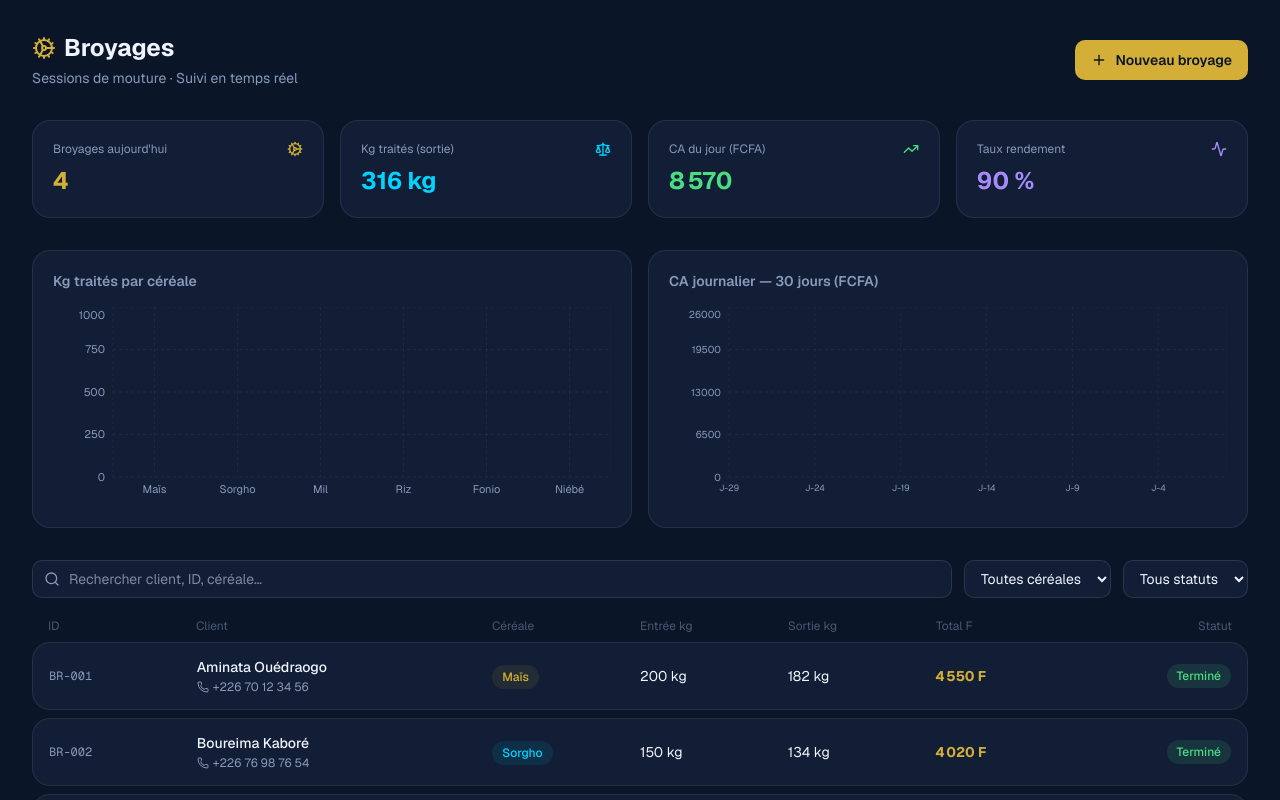
Test: BroyagesPage — filtres et recherche › 15. filtre par céréale "Fonio" → affiche BR-005 et BR-011 seulement
The width and height of the screenshot is (1280, 800).
Select "Fonio" in the 1st dropdown: (1038, 579) [964,560,1111,598]
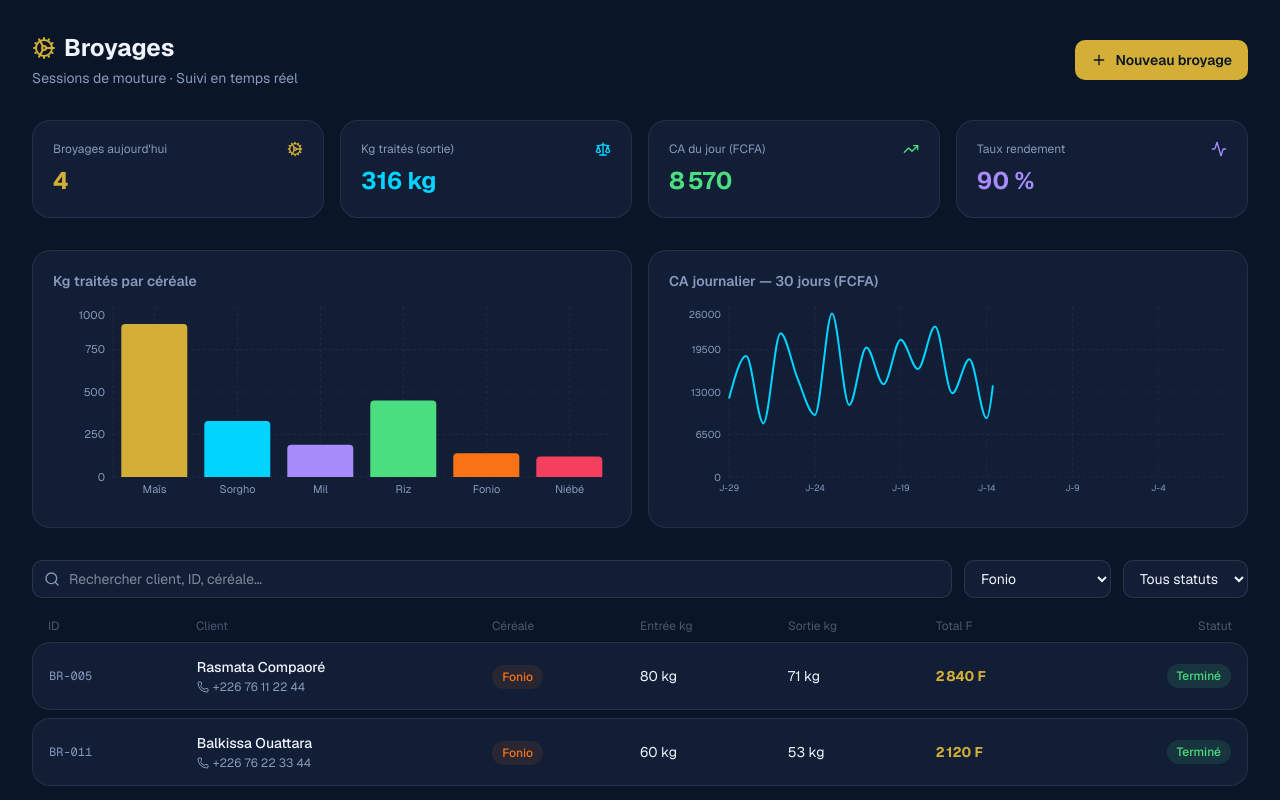
Expected: the text "BR-005" is shown, [49,668,92,684]
Result: the text "BR-001" is gone
